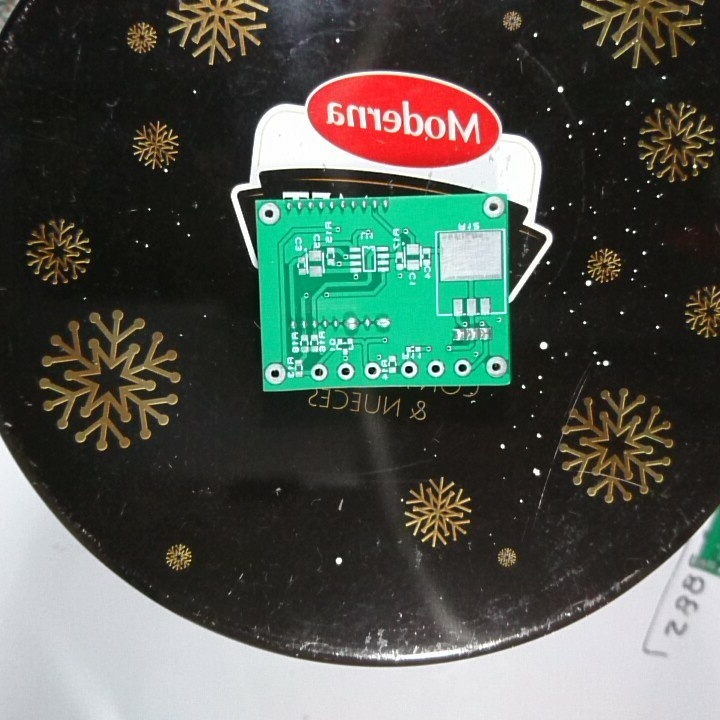F: (479, 195, 505, 220), (257, 201, 282, 226), (264, 361, 287, 387), (483, 355, 506, 379), (398, 358, 419, 380), (335, 360, 355, 382), (453, 358, 474, 378), (362, 361, 382, 380), (308, 363, 328, 382), (427, 358, 445, 379)
P: (342, 315, 361, 334), (374, 315, 394, 332)
